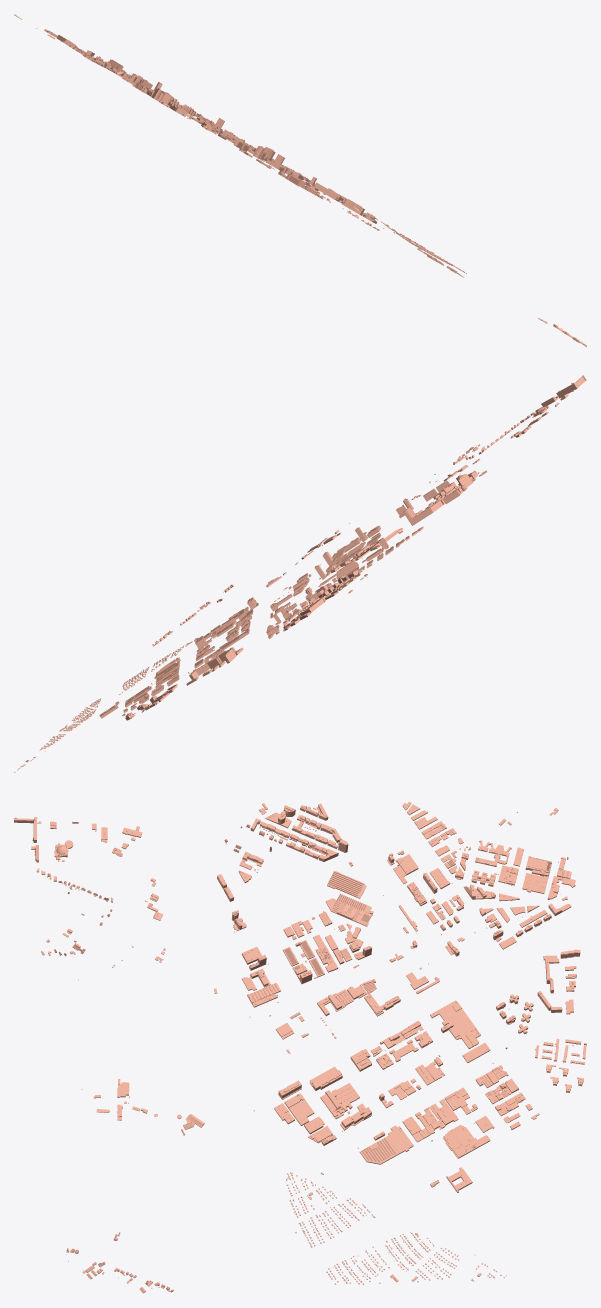
3 views of the same model, one above another, from view 1: azimuth 30°, elevation 25°; view 2: azimuth 150°, elevation 25°; view 3: azimuth 270°, elevation 25° (orthographic). The views are drawn at different scales.
Size of the model in its own units: 6.65e+07 by 4.92e+07 by 8.35e+07.
